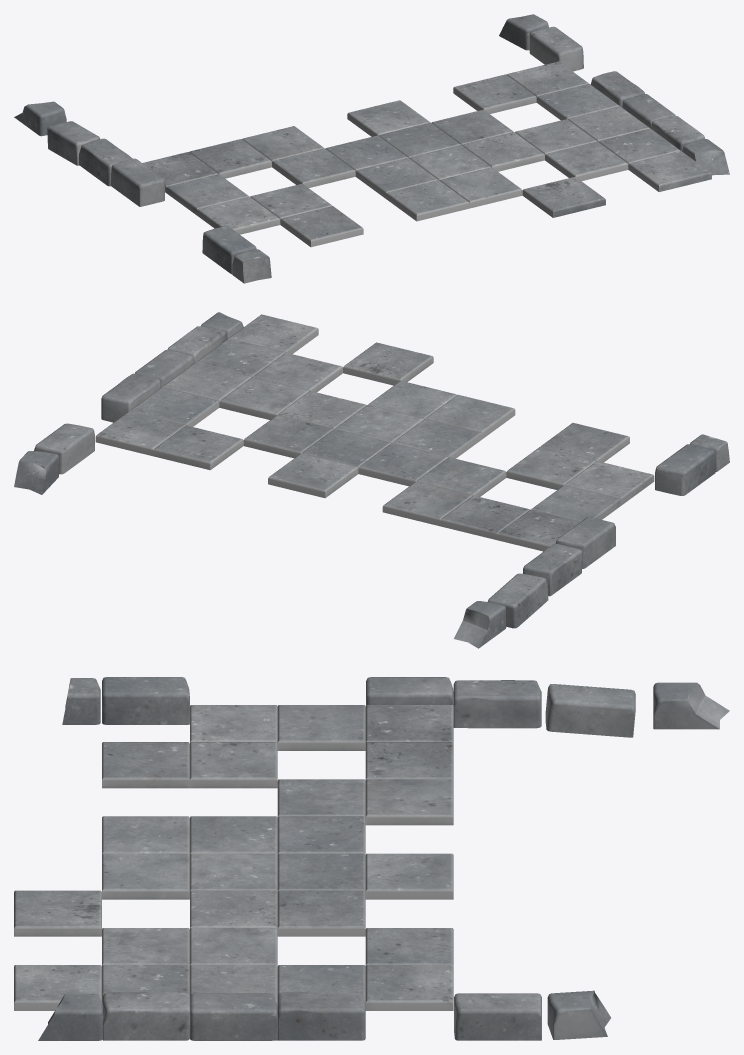
Rendered from road_tile_03.fbx.
3 views of the same model, one above another, from view 1: azimuth 30°, elevation 25°; view 2: azimuth 150°, elevation 25°; view 3: azimuth 270°, elevation 25° (orthographic). The views are drawn at different scales.
Visible parts, largest first — view 1: road_tile_3; view 2: road_tile_3; view 3: road_tile_3.
Boxes of the visible parts, x1,y1,x2,y2 form: road_tile_3: [14, 14, 729, 283]; road_tile_3: [14, 312, 729, 648]; road_tile_3: [14, 677, 729, 1040].
Bounding box in the file's own units: 18.01 × 1.11 × 16.29.
